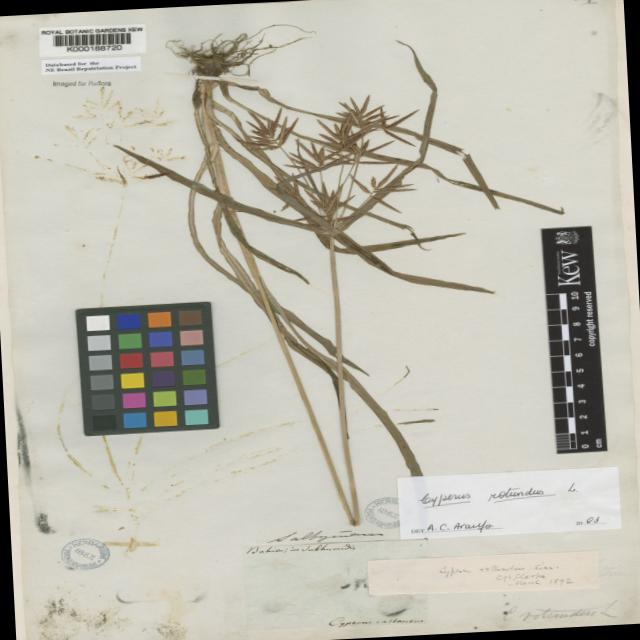cyperus: (277, 92, 429, 227), (305, 93, 411, 164), (238, 104, 300, 155)
